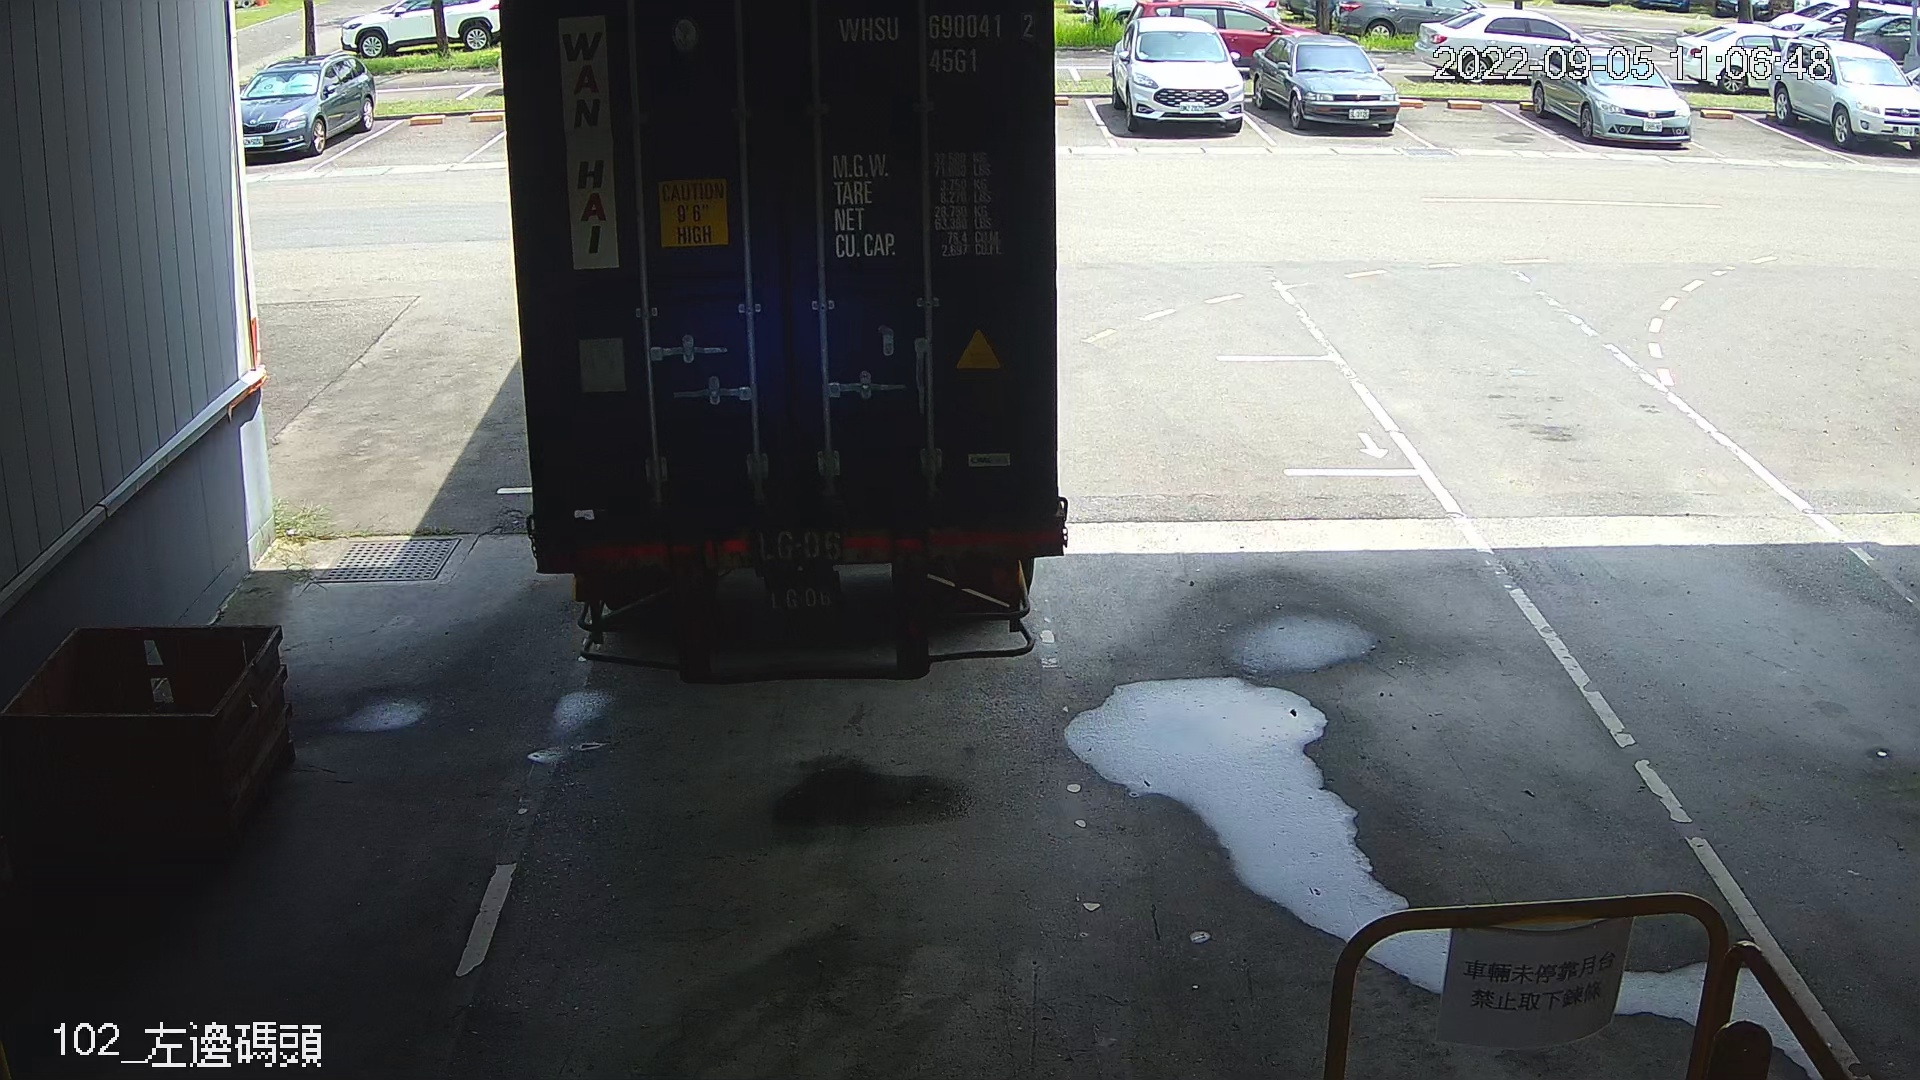container: (833, 5, 1044, 82)
